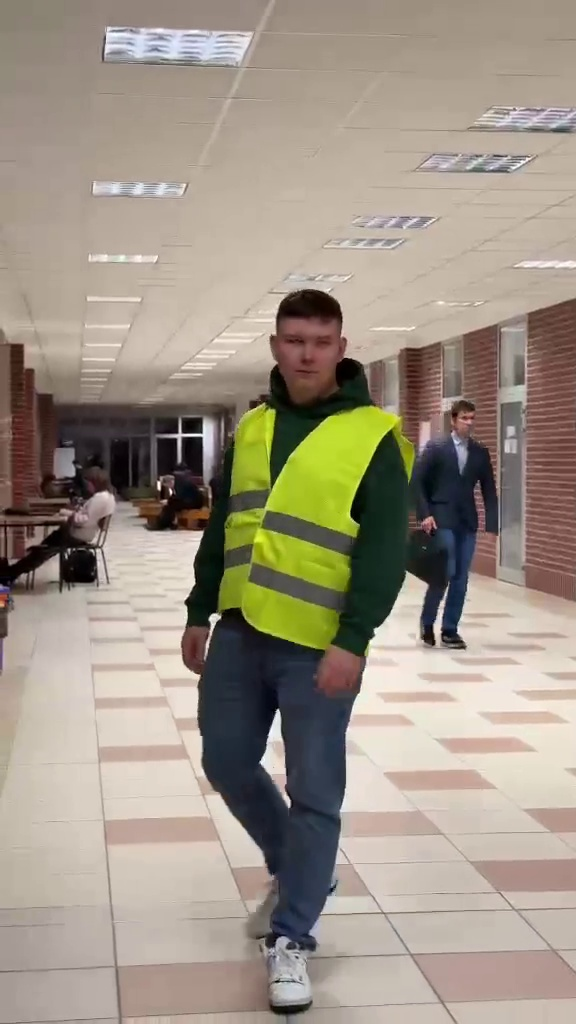no vest: (410, 401, 504, 646), (0, 464, 124, 595)
vest: (184, 286, 401, 1001)
